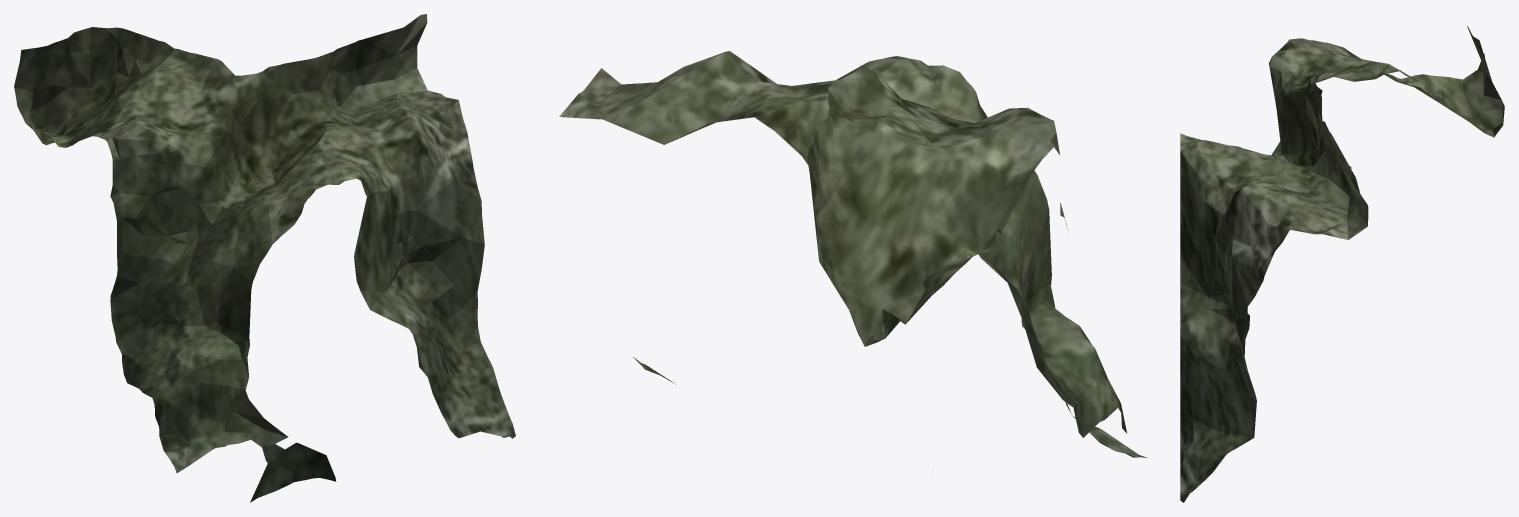
3 renders of one model, left to right at view 1: azimuth 30°, elevation 25°; view 2: azimuth 150°, elevation 25°; view 3: azimuth 270°, elevation 25°, orthographic. The views are drawn at different scales.
Bounding box in the file's own units: 2.95 × 2.95 × 2.6.
Materials: 3 (3 with a texture image).
